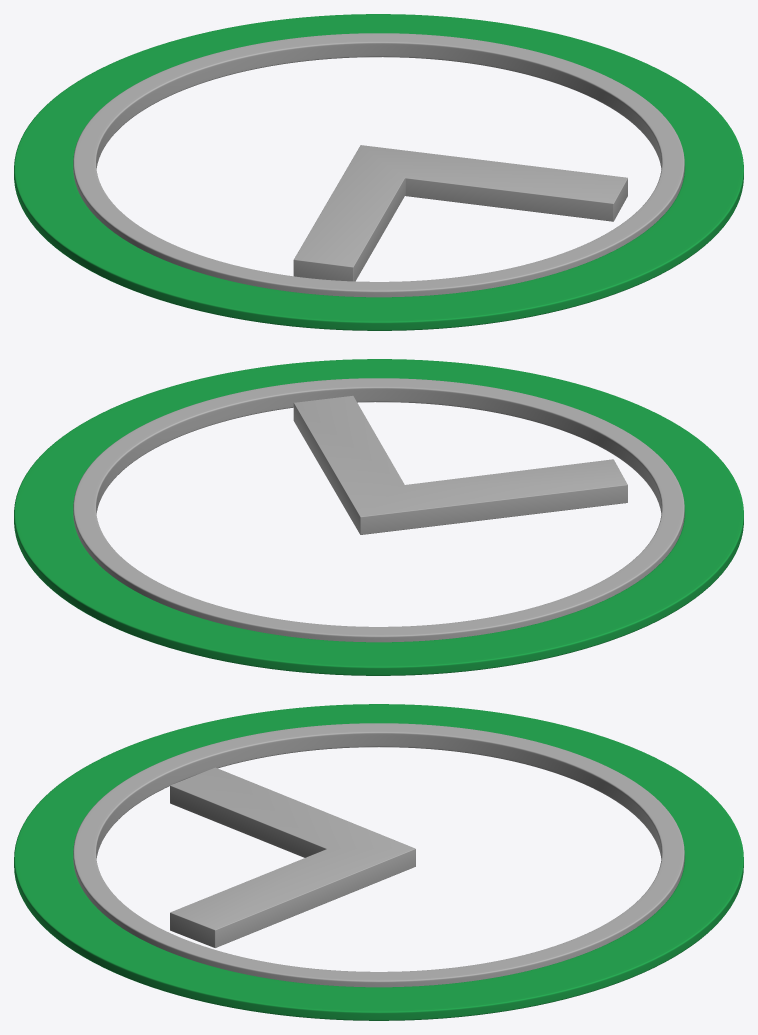
Rendered from arrow-animated.fbx.
3 renders of one model, top to bottom at view 1: azimuth 30°, elevation 25°; view 2: azimuth 150°, elevation 25°; view 3: azimuth 270°, elevation 25°, orthographic.
Parts seen in each view (by area): view 1: Tube004, Tube003, Line004; view 2: Tube004, Tube003, Line004; view 3: Tube004, Tube003, Line004.
Boxes of the visible parts, x1,y1,x2,y2 form: Tube004: [14, 14, 743, 330]; Tube003: [73, 33, 684, 297]; Line004: [293, 145, 627, 281]; Tube004: [14, 359, 743, 675]; Tube003: [73, 378, 684, 642]; Line004: [293, 395, 627, 534]; Tube004: [14, 704, 743, 1020]; Tube003: [73, 723, 684, 987]; Line004: [170, 767, 415, 947].
Size of the model in its own units: 132 by 3.73 by 132.
